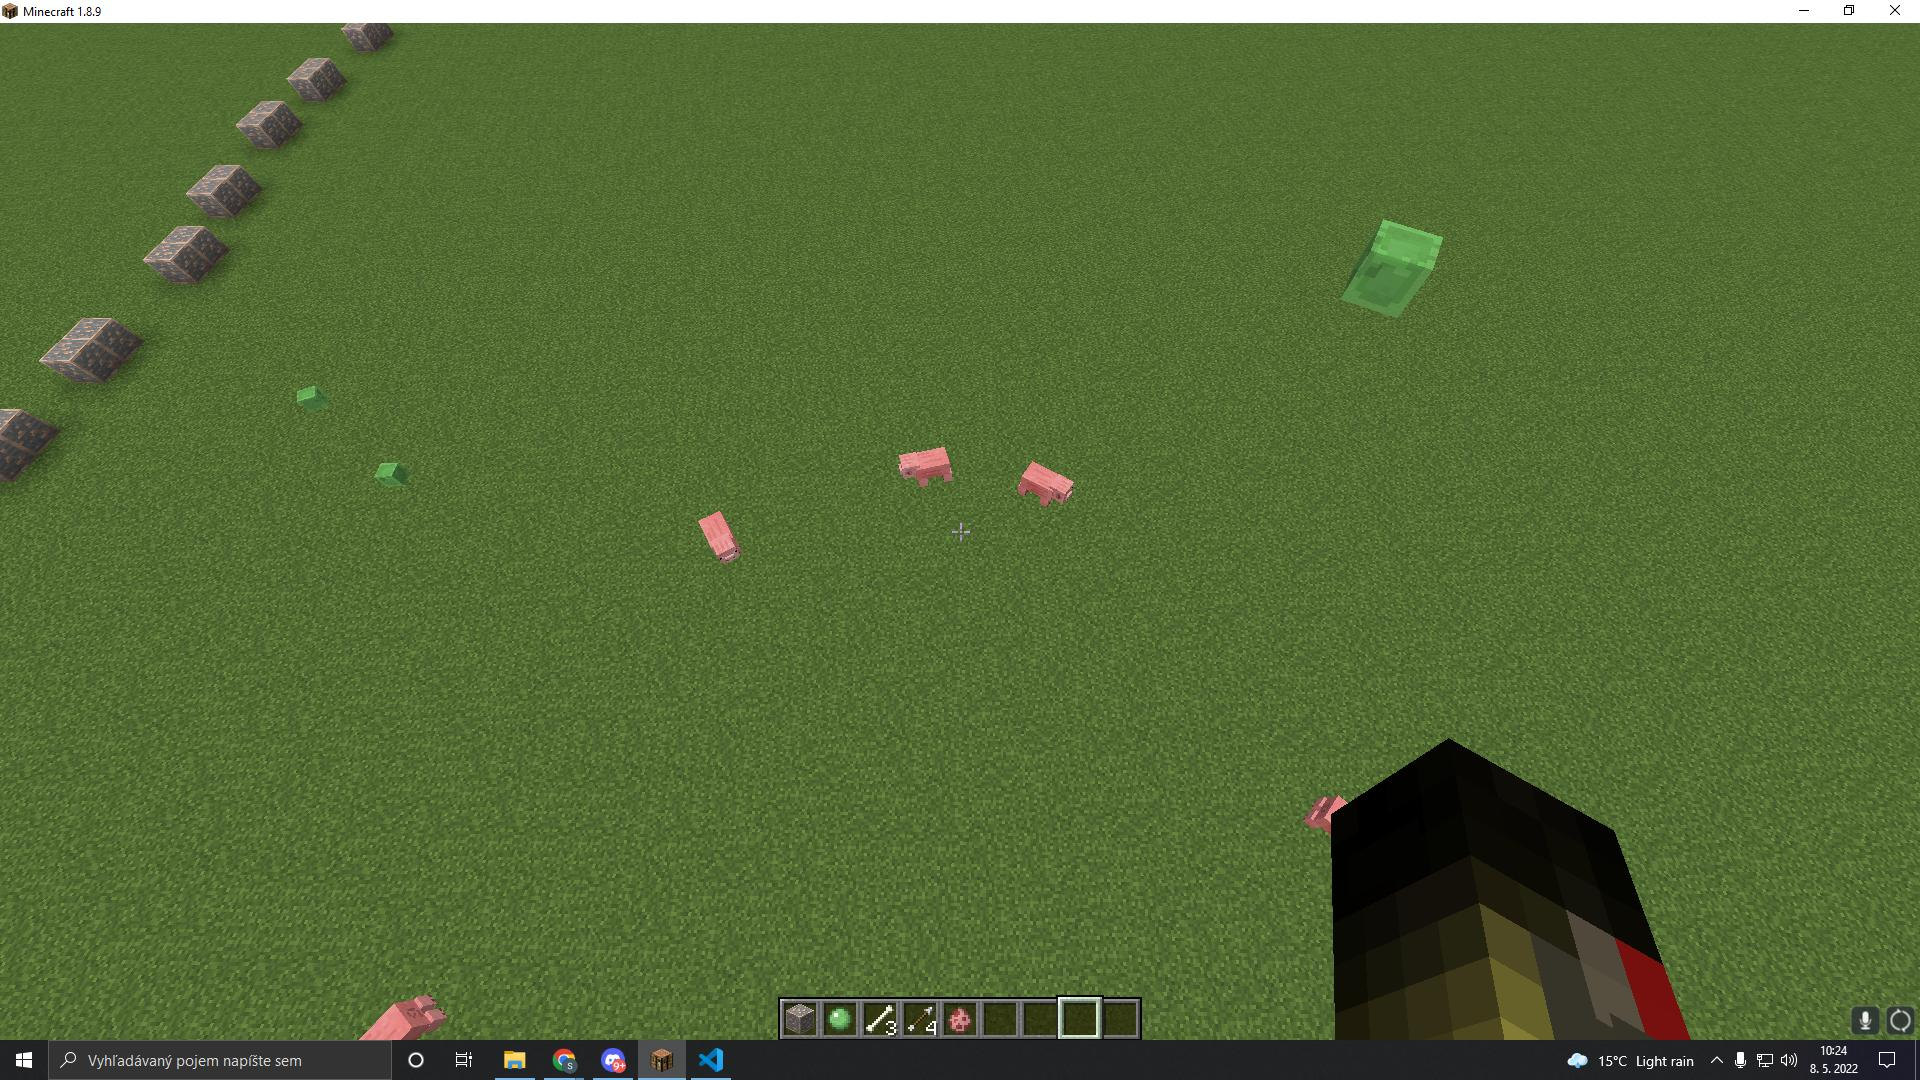pig: (678, 498, 756, 575), (353, 980, 444, 1038), (1006, 455, 1084, 516), (1299, 778, 1356, 845), (887, 440, 959, 492)
